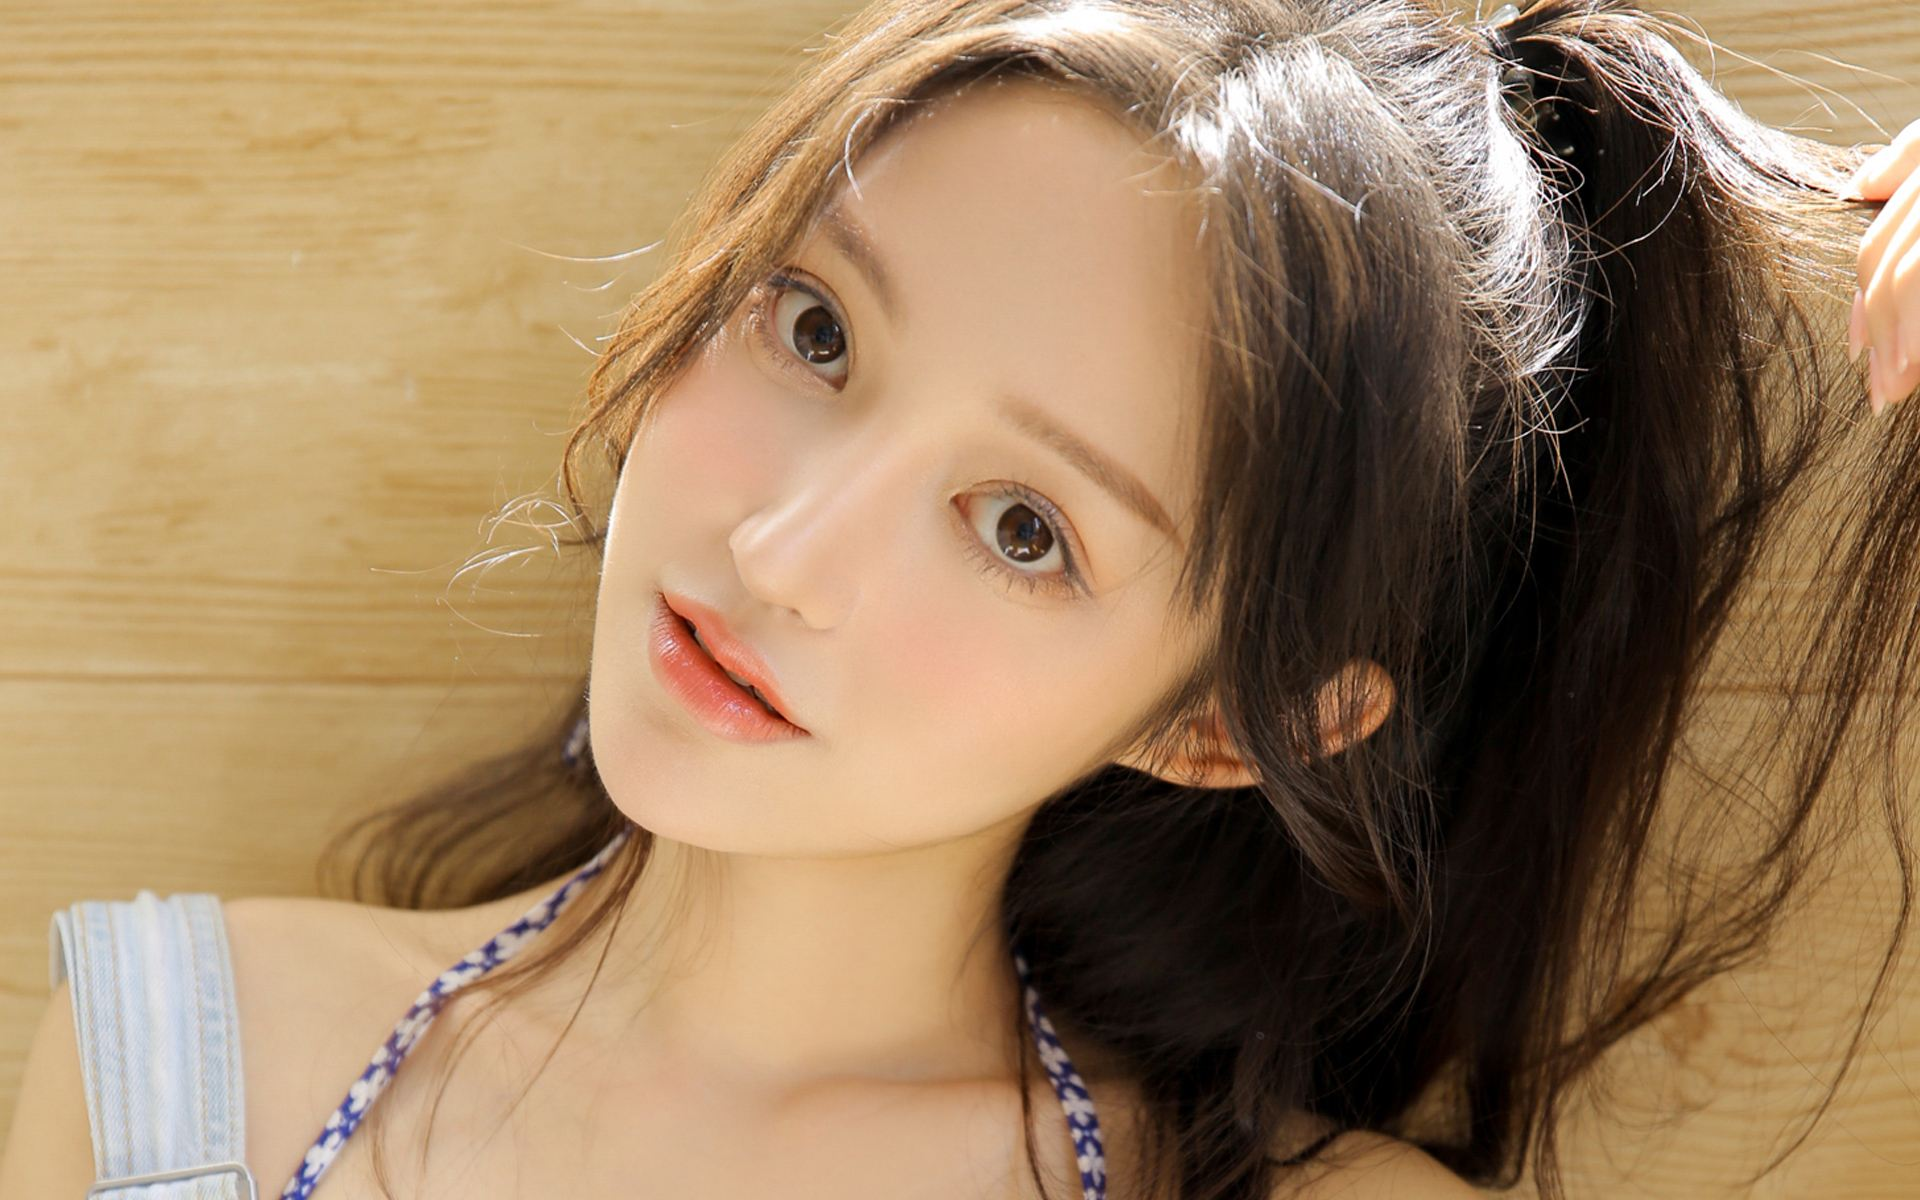person: (462, 40, 1754, 1073)
